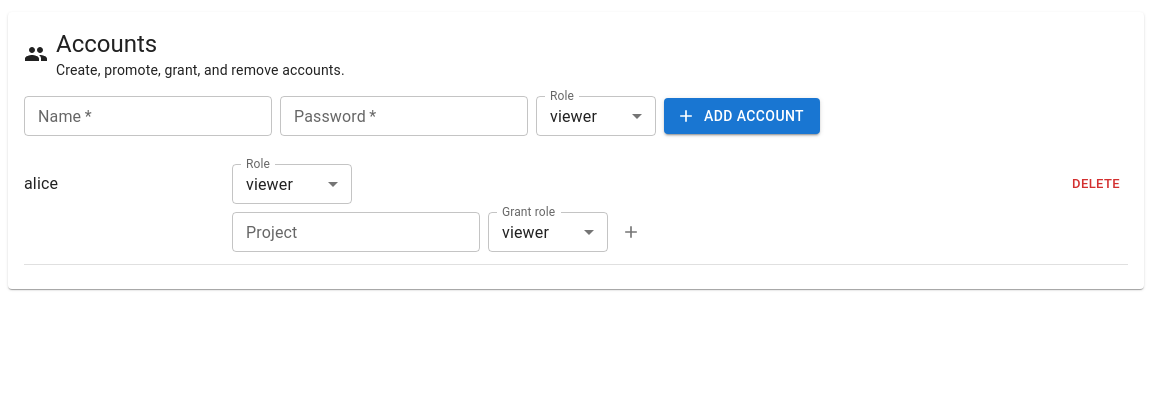
Test: picking a role in the create form and the grant-role select updates each draft
The width and height of the screenshot is (1152, 406).
Expected: the text "alice" is shown, [24,174,58,193]
Click the dropdown named "Role" at (574, 116), box [550,106,597,126]
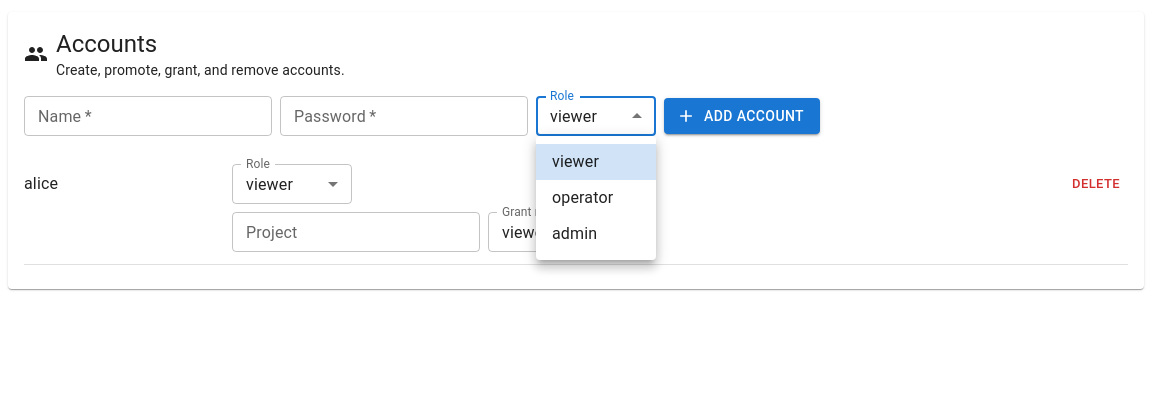
Click the option "operator" at (583, 198), box [552,188,613,207]
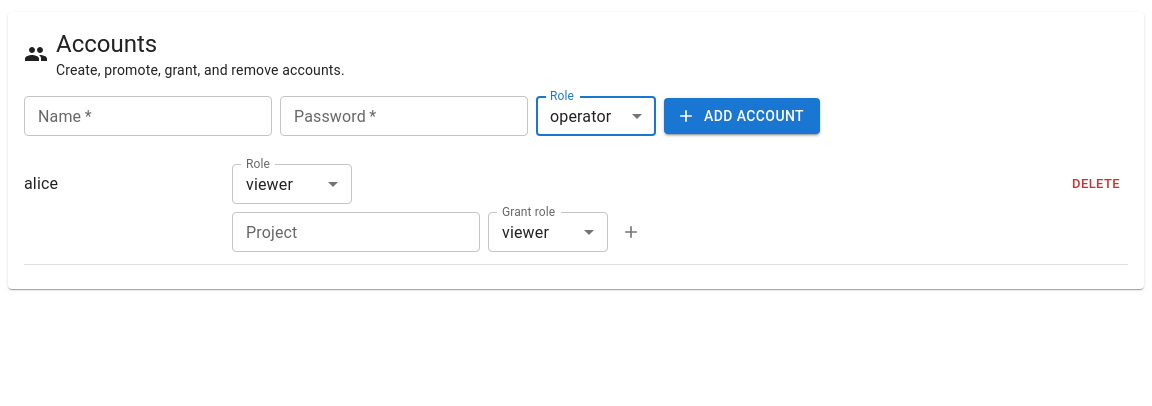
Now the dropdown named "Role" reads "operator", box [550,106,611,126]
Click the dropdown named "Grant role" at (526, 232), box [502,222,549,242]
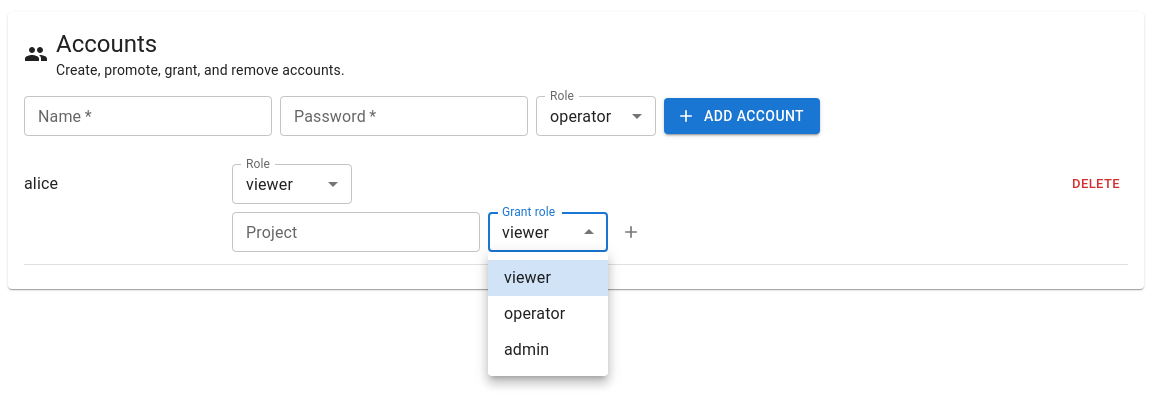
Click the option "admin" at (527, 350), box [504,340,549,359]
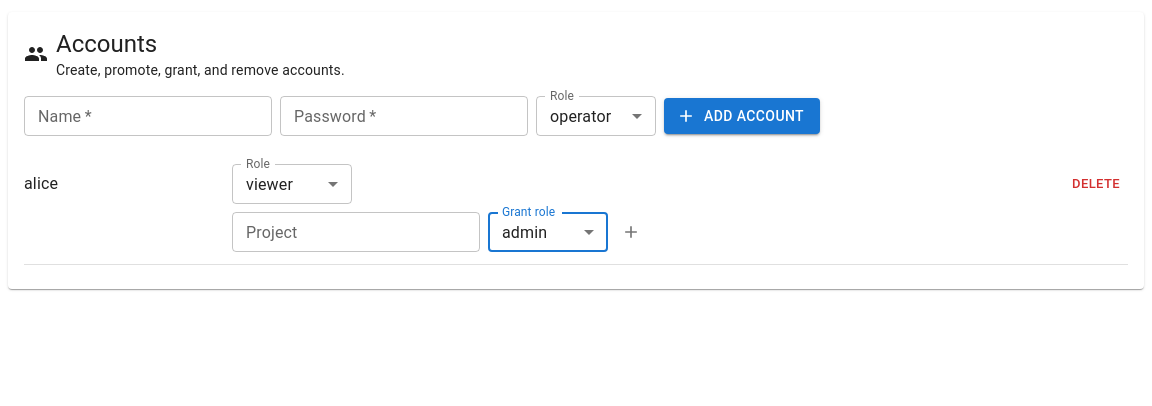
Type "demo" into the field labelled "Project" at (356, 232), box [232,212,480,252]
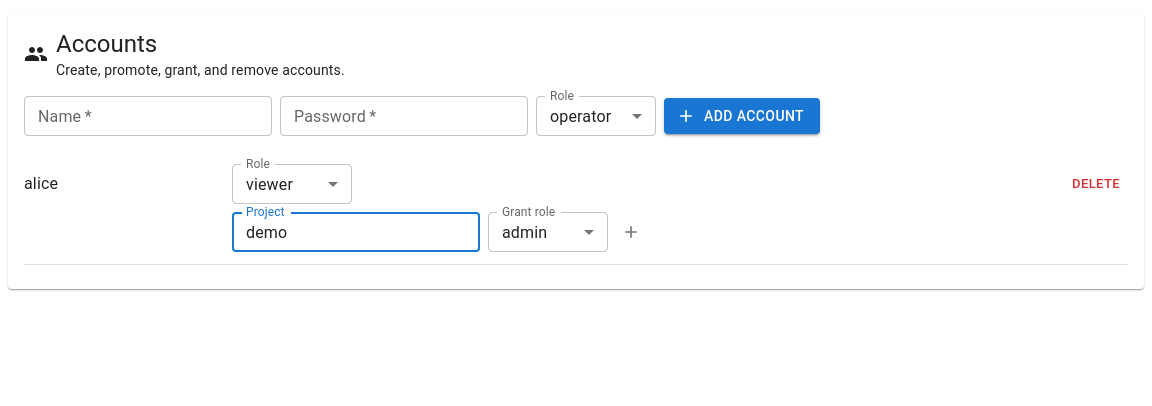
Click the button named "Add grant" at (631, 232), box [616,217,646,247]
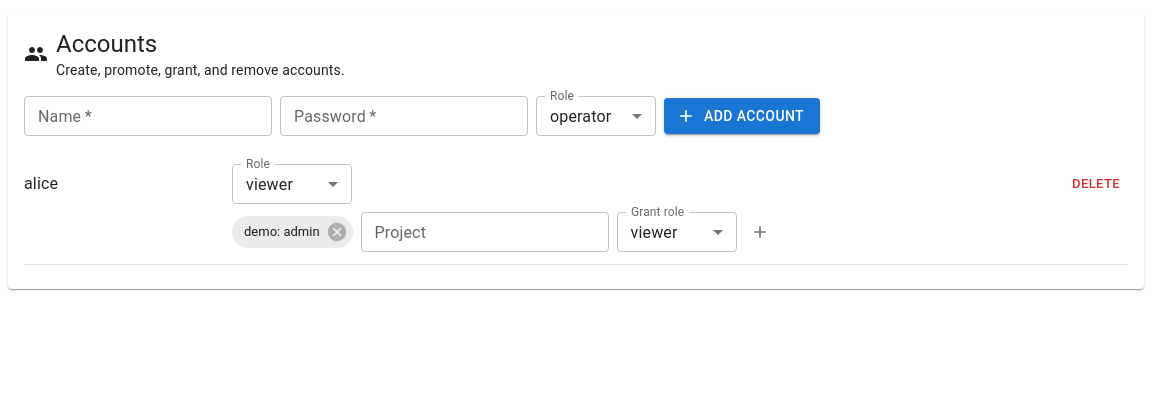
Now the text "demo: admin" is shown, box [244,224,320,239]
